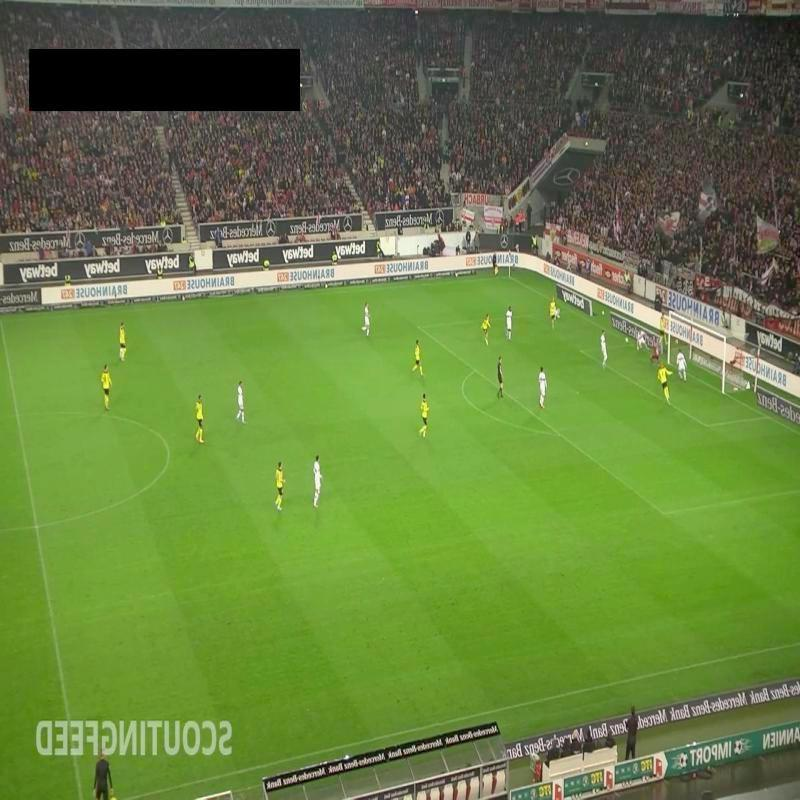1: (502, 271, 516, 285)
10: (468, 362, 482, 376)
11: (551, 426, 565, 440)
12: (657, 507, 671, 521)
14: (10, 407, 24, 422)
15: (30, 522, 44, 536)
2: (564, 304, 578, 318)
3: (628, 339, 638, 350)
4: (761, 410, 775, 424)
7: (573, 344, 587, 358)
8: (700, 418, 714, 432)
9: (412, 319, 426, 333)
c: (160, 438, 174, 452)
